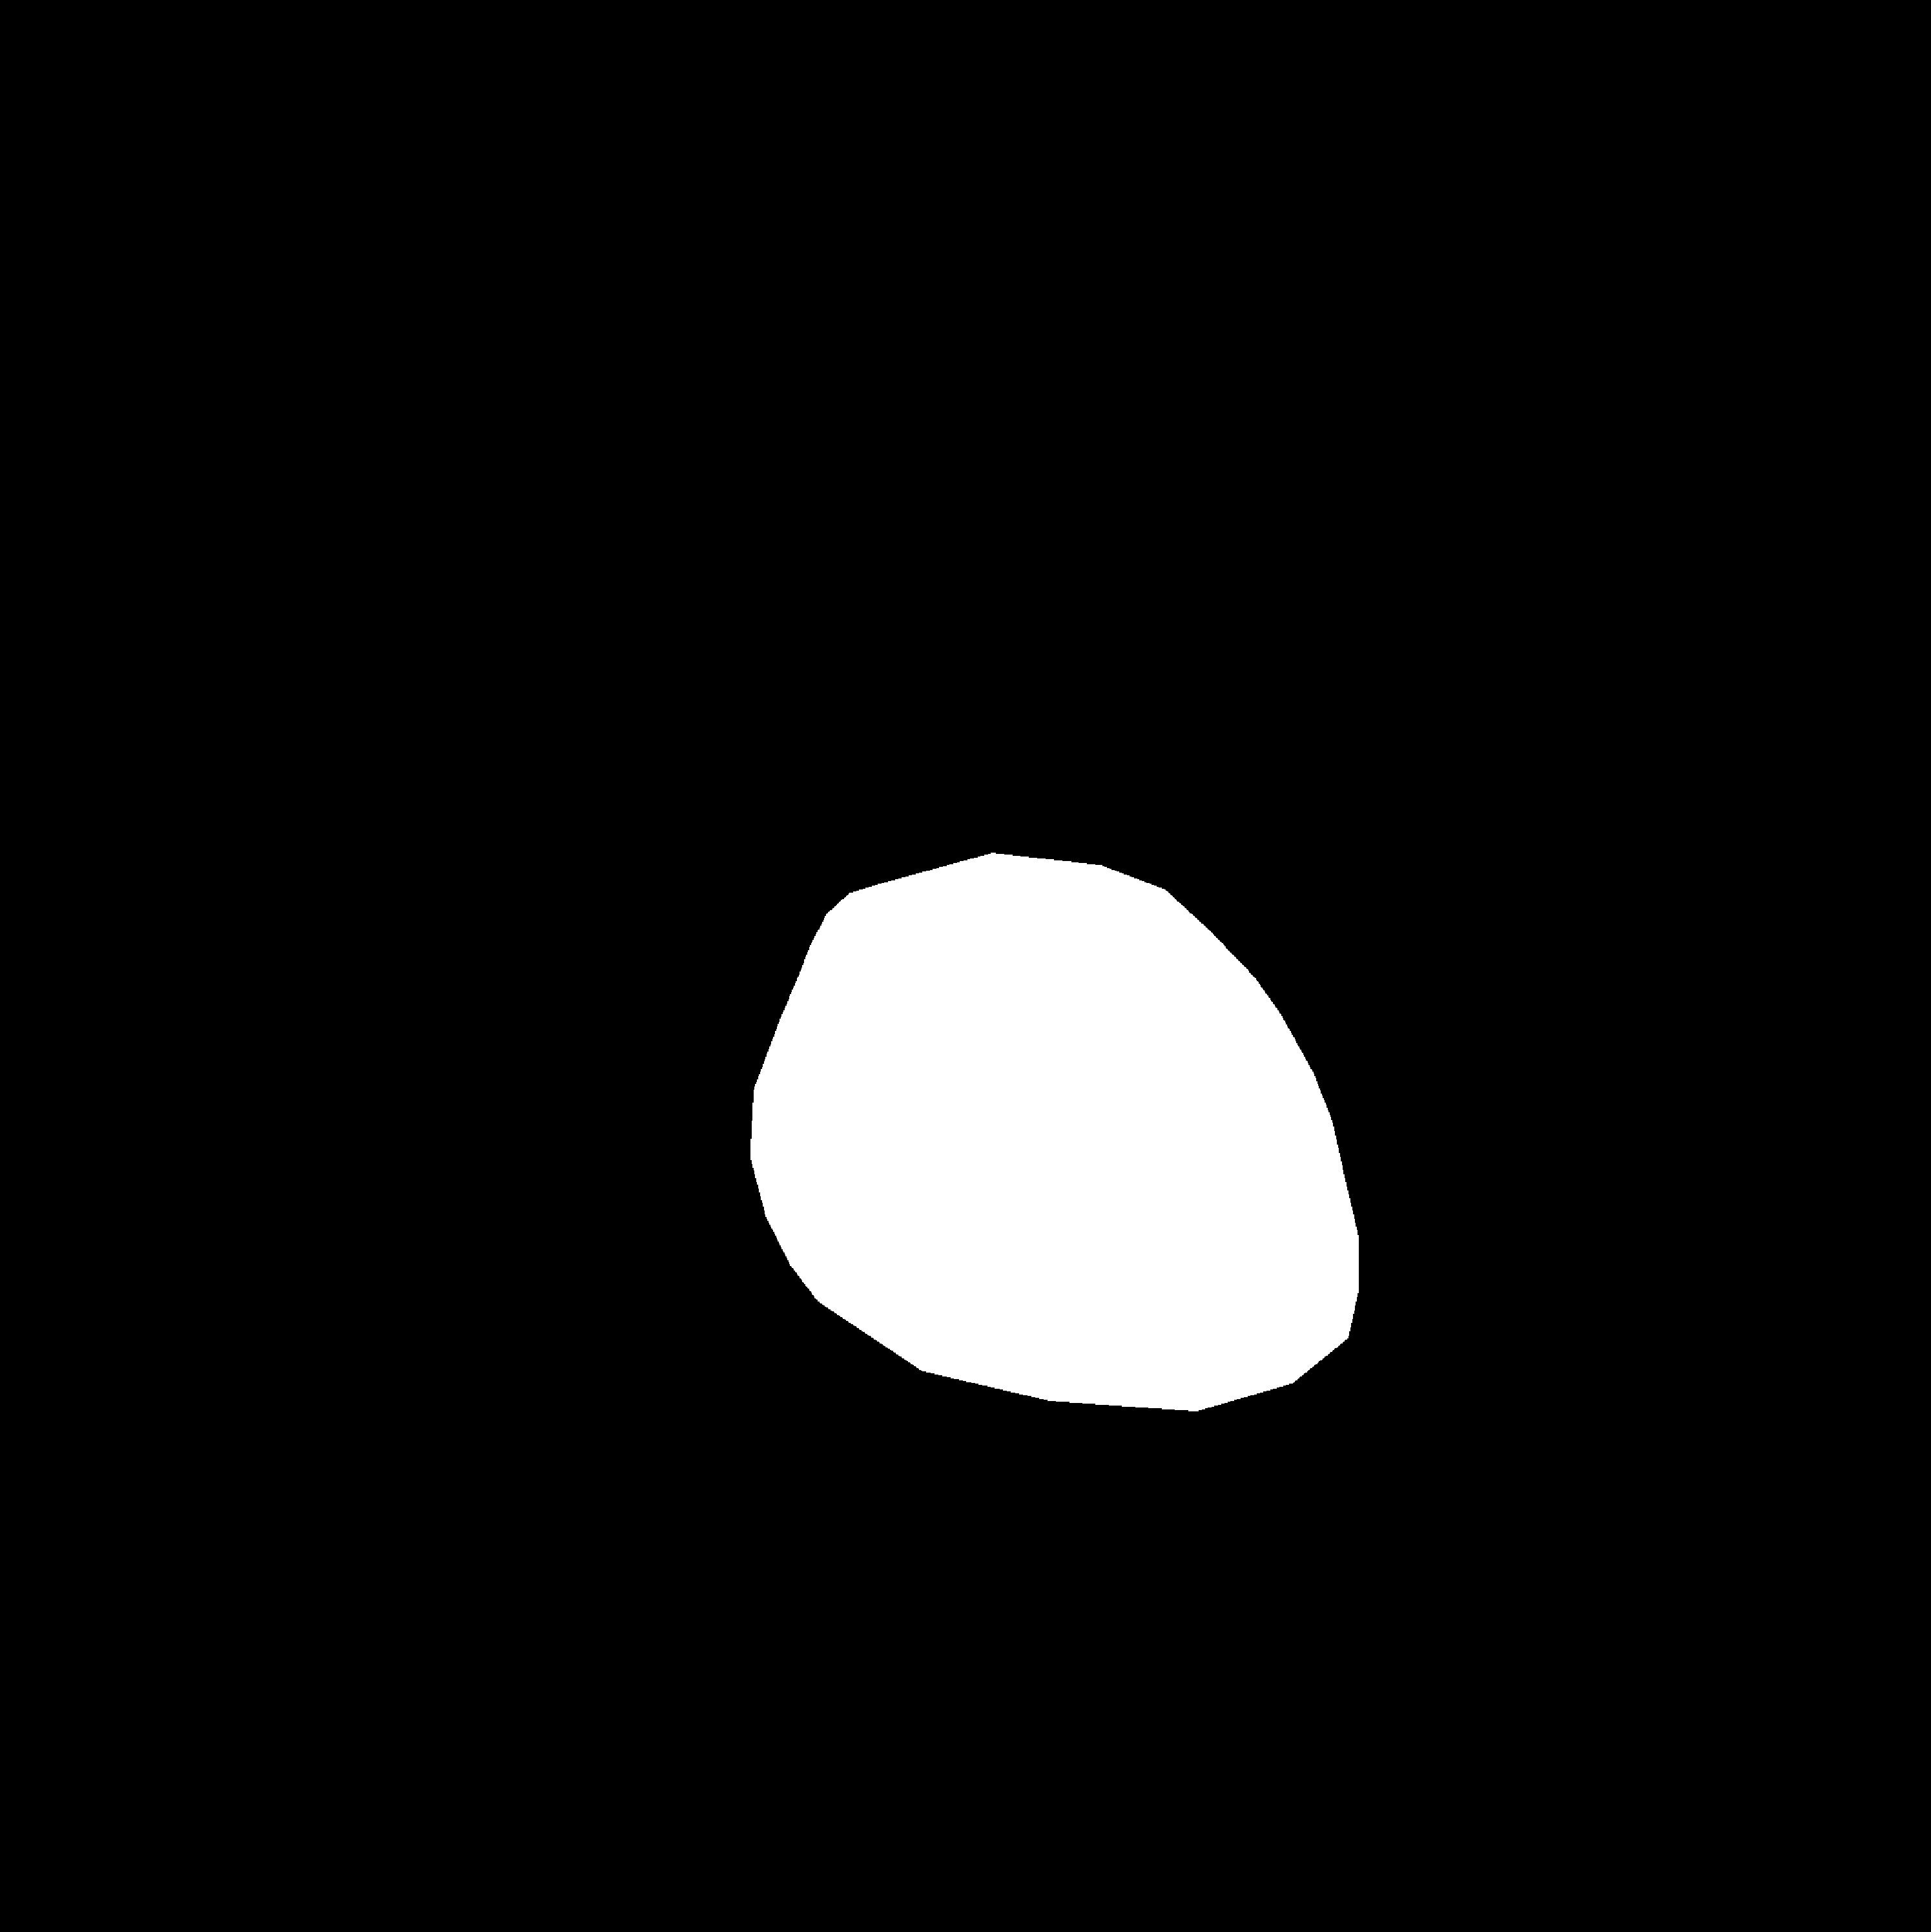heart: (753, 918, 1362, 1394)
left_lung: (364, 320, 914, 1454)
right_lung: (1034, 313, 1549, 1437)
